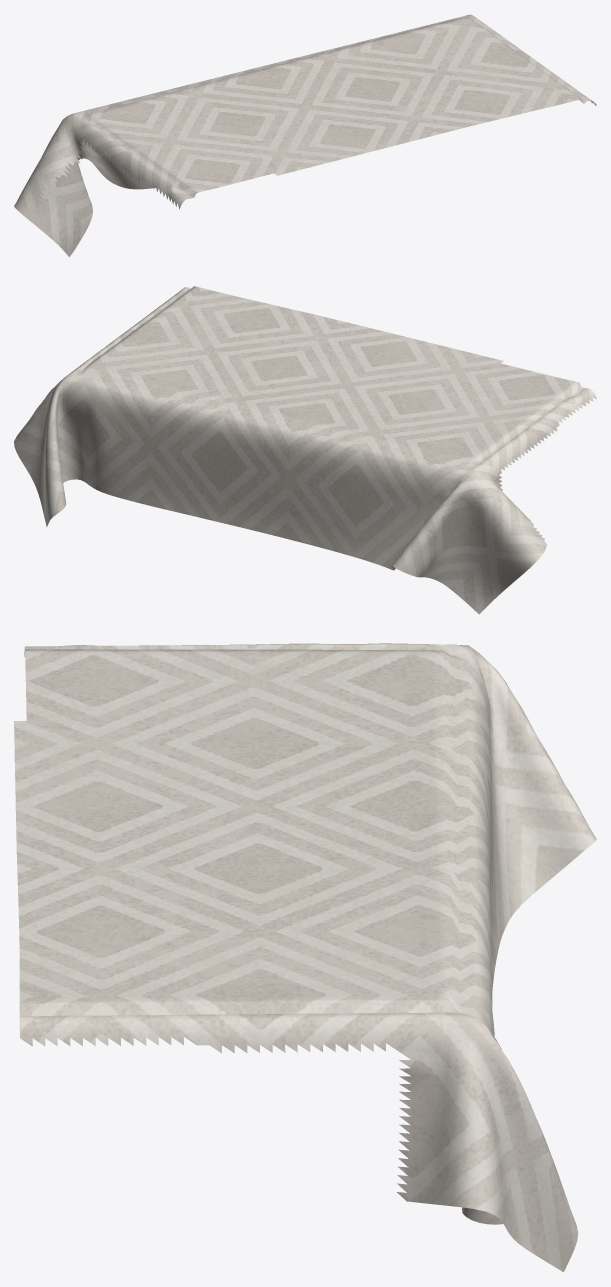
The model's file is Skatert1.fbx.
3 renders of one model, top to bottom at view 1: azimuth 30°, elevation 25°; view 2: azimuth 150°, elevation 25°; view 3: azimuth 270°, elevation 25°, orthographic. The views are drawn at different scales.
Visible parts, largest first — view 1: Box002; view 2: Box002; view 3: Box002.
Part boxes in pixels (x1,y1,x2,y2): Box002: (14,14,596,257); Box002: (14,286,596,614); Box002: (14,643,596,1272).
Size of the model in its own units: 127 by 34.51 by 65.09.
